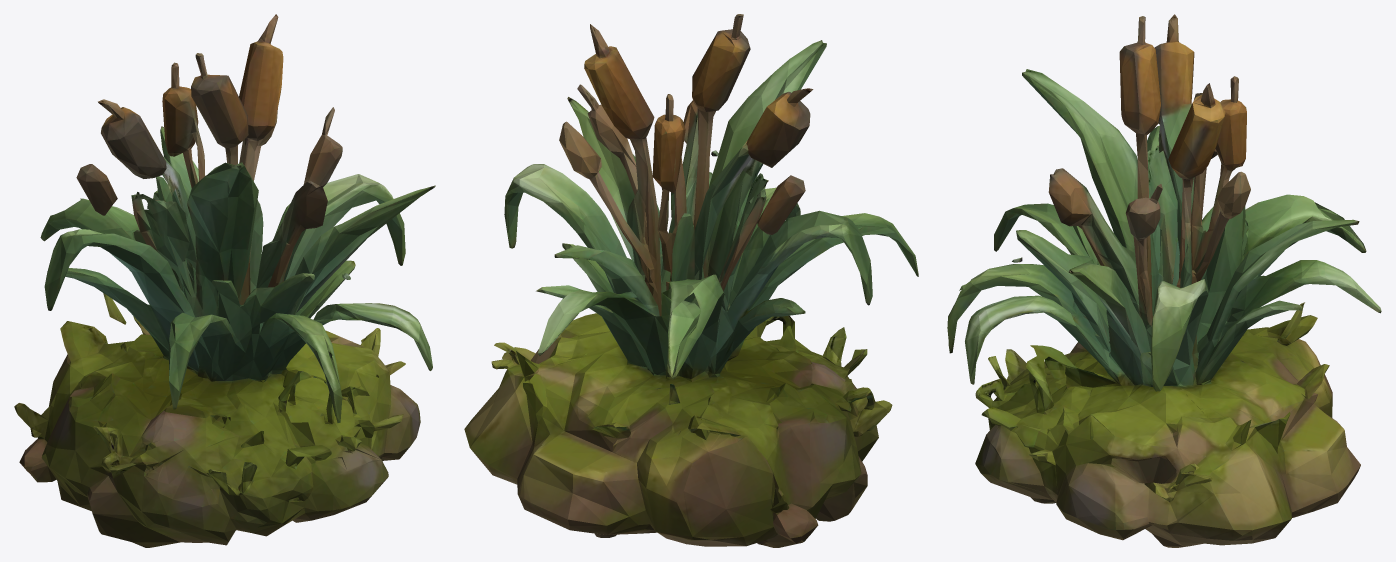
File: reeds.glb
3 views of the same model, side by side, from view 1: azimuth 30°, elevation 25°; view 2: azimuth 150°, elevation 25°; view 3: azimuth 270°, elevation 25° (orthographic). The views are drawn at different scales.
Parts seen in each view (by area): view 1: world; view 2: world; view 3: world.
Boxes of the visible parts, box(x1,y1,x2,y2) form: world: box(14, 14, 435, 547); world: box(464, 14, 918, 547); world: box(947, 14, 1381, 547).
Size of the model in its own units: 0.603 by 0.7606 by 0.6335.
Materials: 1 (1 with a texture image).
